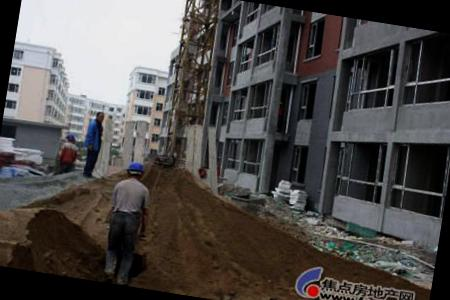no_helmet: (93, 108, 107, 128)
